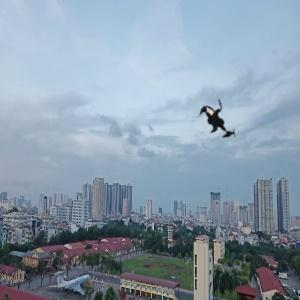drone: (188, 87, 255, 154)
